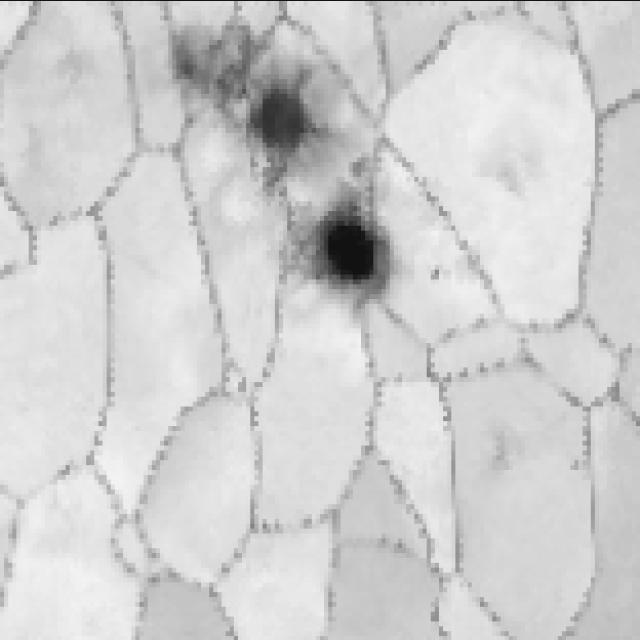good_void: (156, 3, 336, 196), (265, 186, 393, 324), (468, 68, 569, 197), (469, 414, 549, 489), (339, 153, 375, 183), (424, 264, 444, 290)
